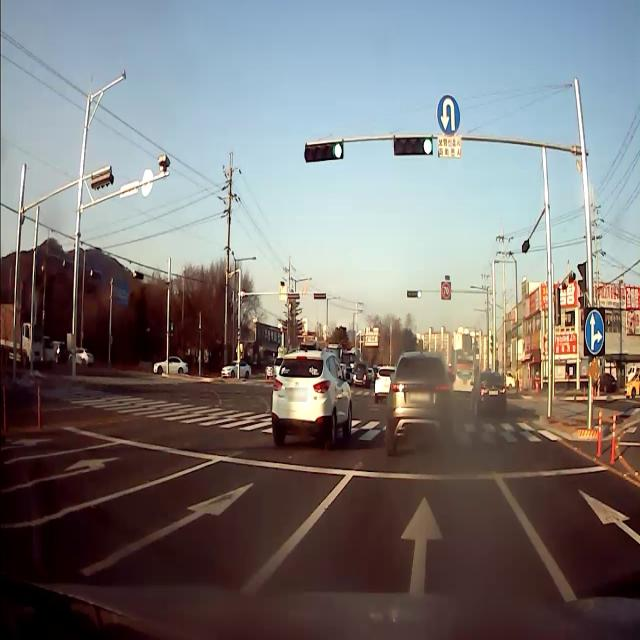Green Light: (331, 140, 344, 160), (421, 137, 433, 157), (417, 290, 422, 299)
